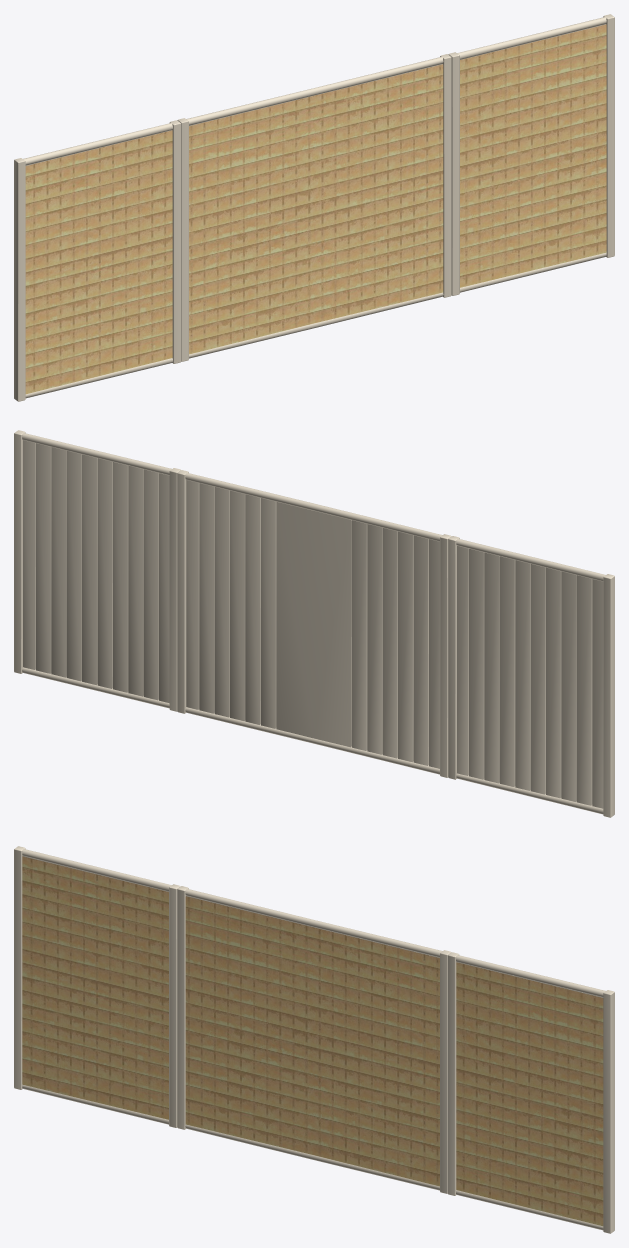
File: SM_module_wall_03.glb
The picture shows the model from 3 angles, top to bottom: view 1: azimuth 30°, elevation 25°; view 2: azimuth 150°, elevation 25°; view 3: azimuth 330°, elevation 25°; orthographic projection.
Parts seen in each view (by area): view 1: SM_module_wall_03; view 2: SM_module_wall_03; view 3: SM_module_wall_03.
Part boxes in pixels (left/top/right/bottom): SM_module_wall_03: left=14, top=14, right=614, bottom=401; SM_module_wall_03: left=14, top=430, right=614, bottom=817; SM_module_wall_03: left=14, top=846, right=614, bottom=1233.
Bounding box in the file's own units: 7.3 × 2.8 × 0.1.
Materials: 2 (1 with a texture image).
